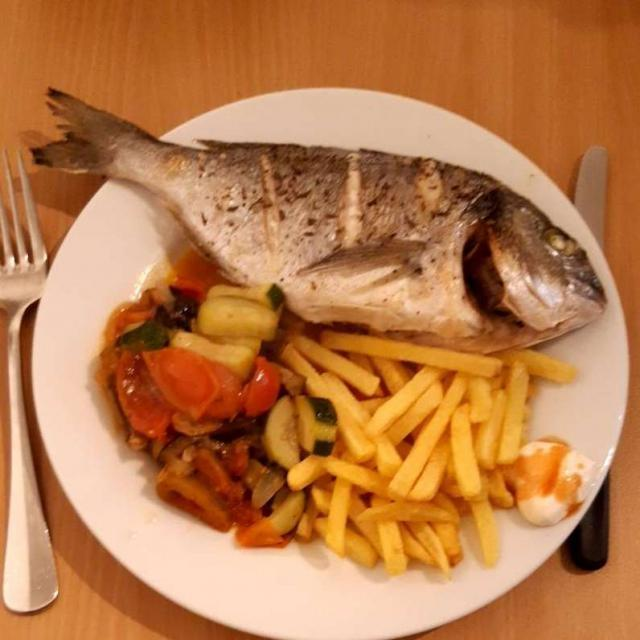chips-french-fries: (282, 328, 574, 571)
mayonnaise: (513, 433, 594, 524)
ratatouille: (74, 259, 298, 551)
